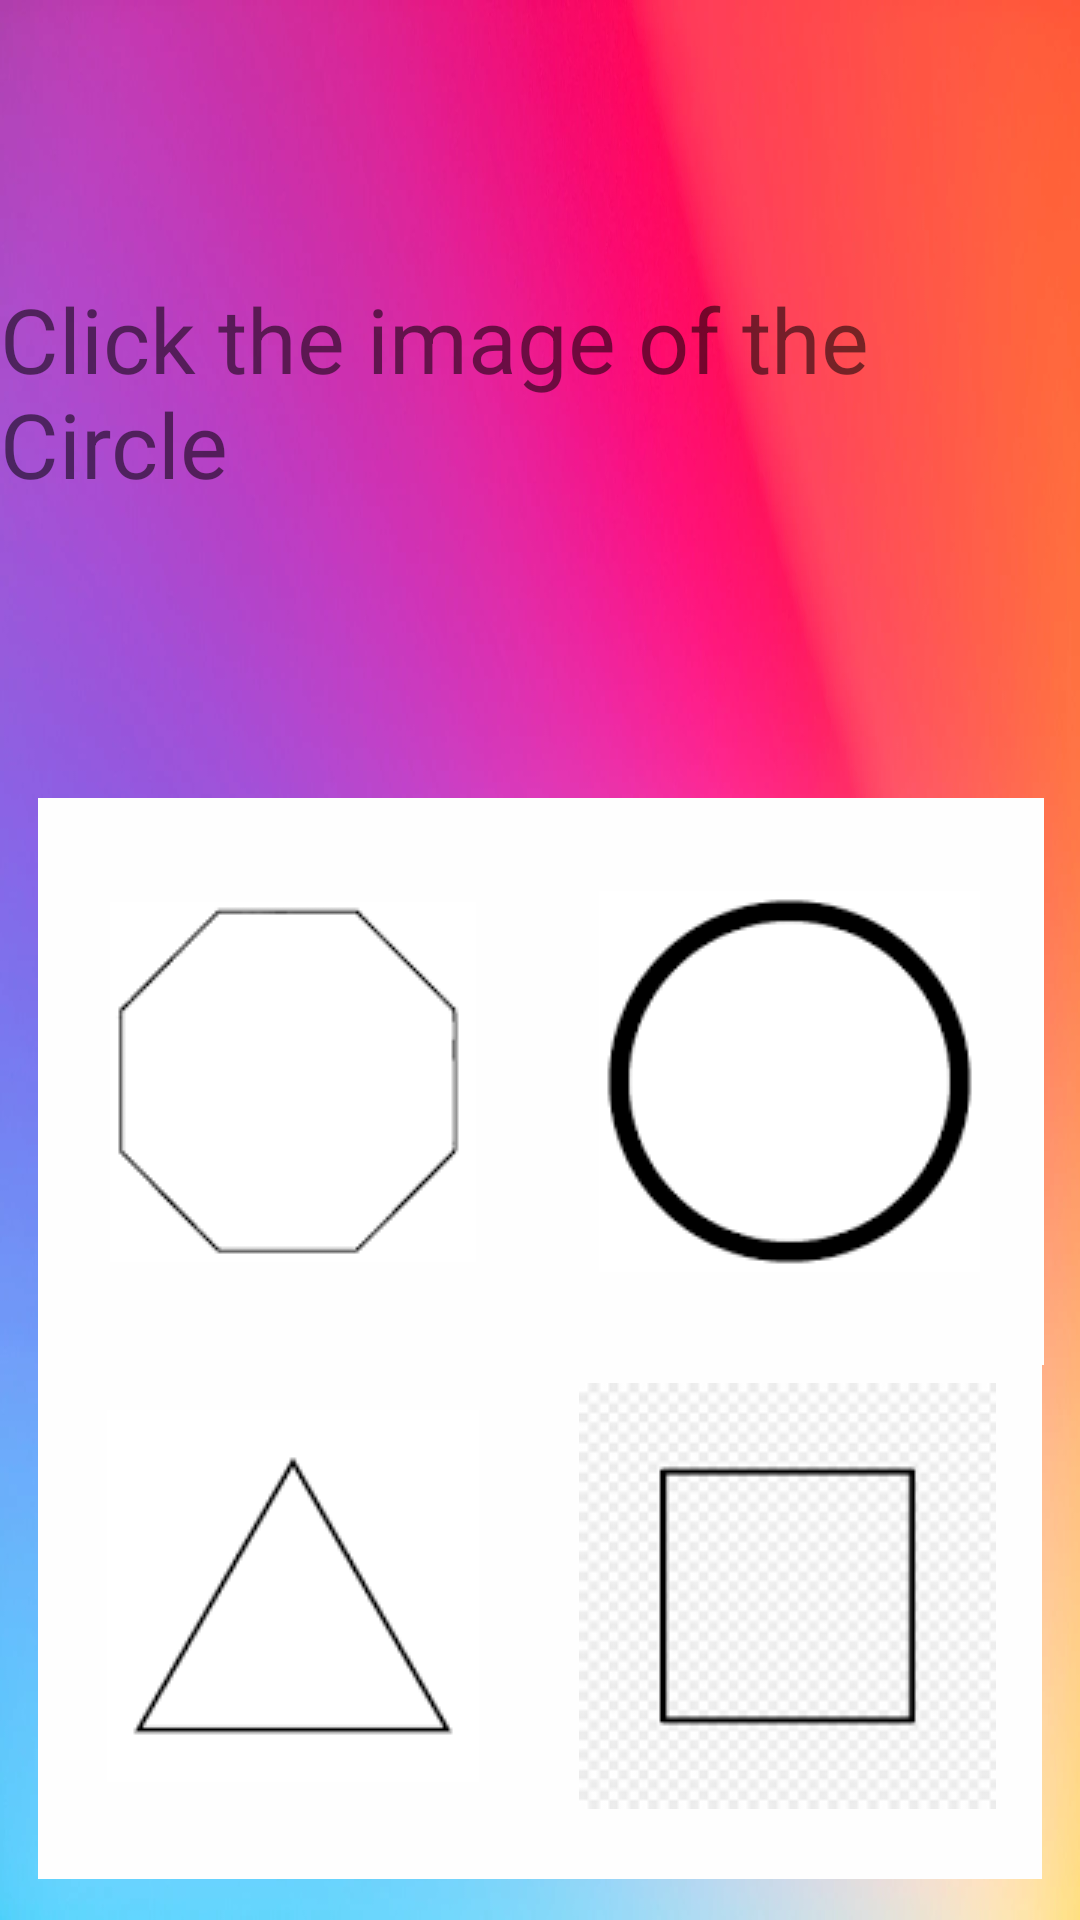

Screen size 1080*1920. Icon name, then its box in pixels as (x1, y1, x2, y2):
Octogon Picture: (118, 908, 459, 1254)
Square Picture: (659, 1466, 917, 1726)
Triangle Picture: (134, 1457, 452, 1735)
